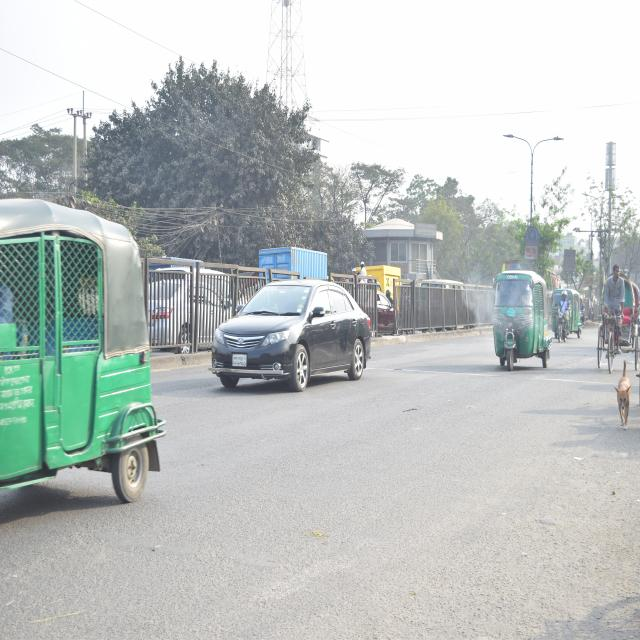car: (209, 284, 370, 392)
motorbike: (553, 302, 568, 346)
